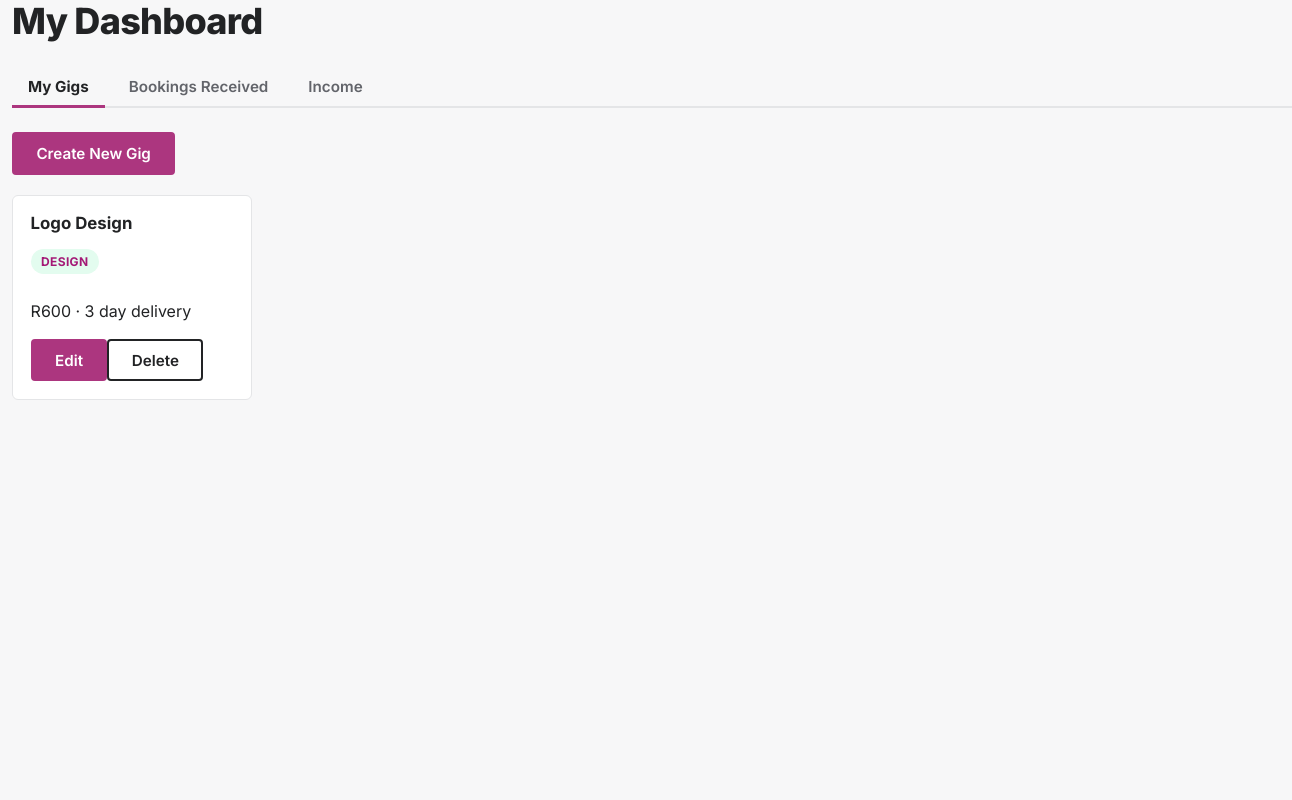
it: FreelancerDashboardPage editing a gig › keeps the form open and shows the error if the update fails
The width and height of the screenshot is (1292, 800).
Click the button "Edit": [69, 360] box top-left (31, 339), bottom-right (107, 382)
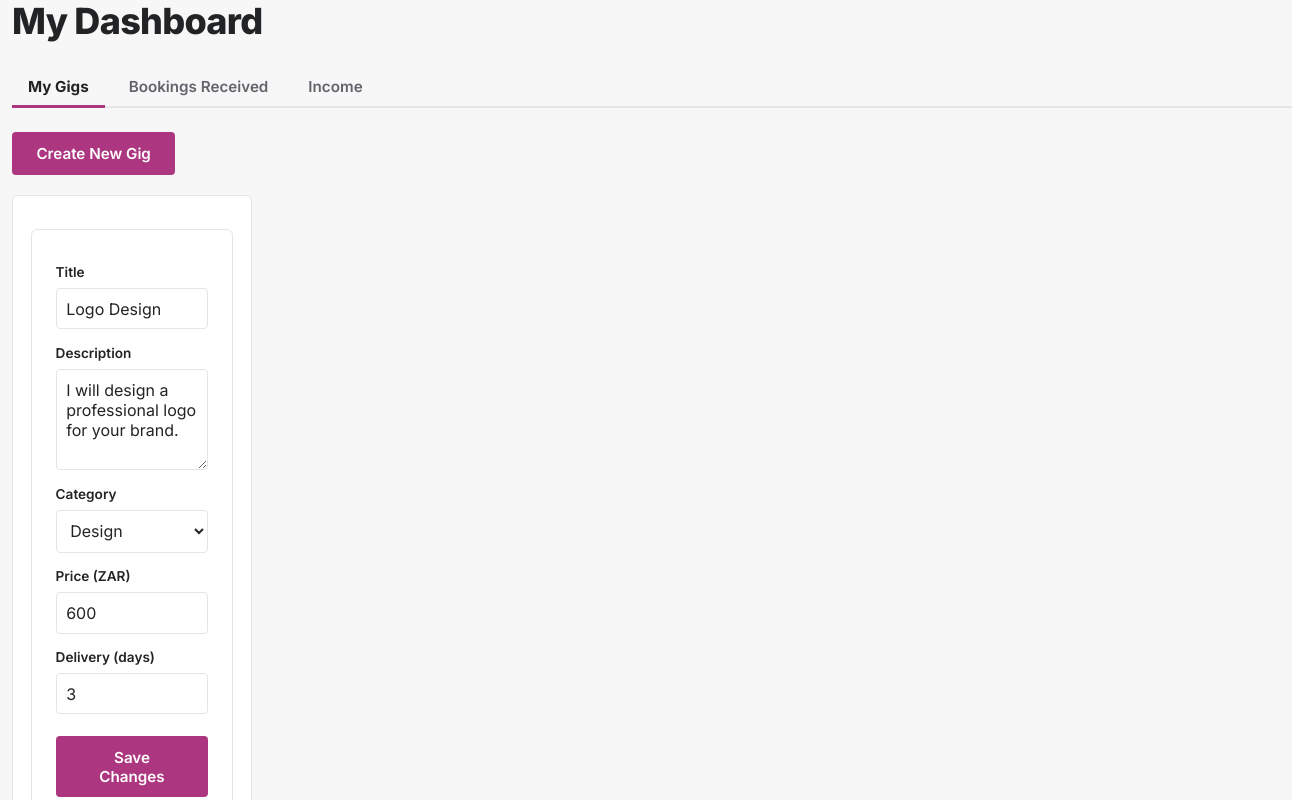
Click the button "Save Changes": [132, 767] box top-left (56, 736), bottom-right (208, 797)
(page scrolled)
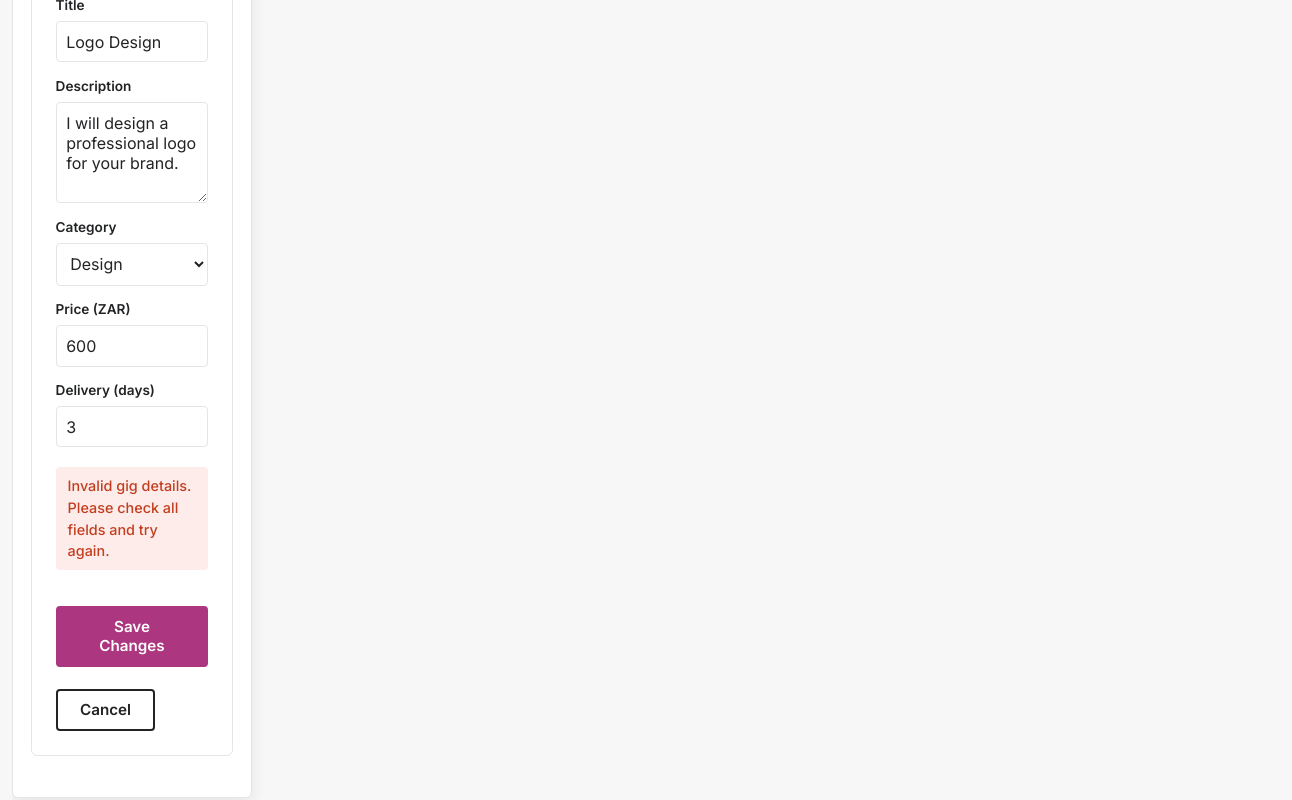
Check: the button "Save Changes" is shown, box top-left (56, 606), bottom-right (208, 667)
Check: the message shows "Invalid gig details.", box top-left (68, 477), bottom-right (191, 559)
